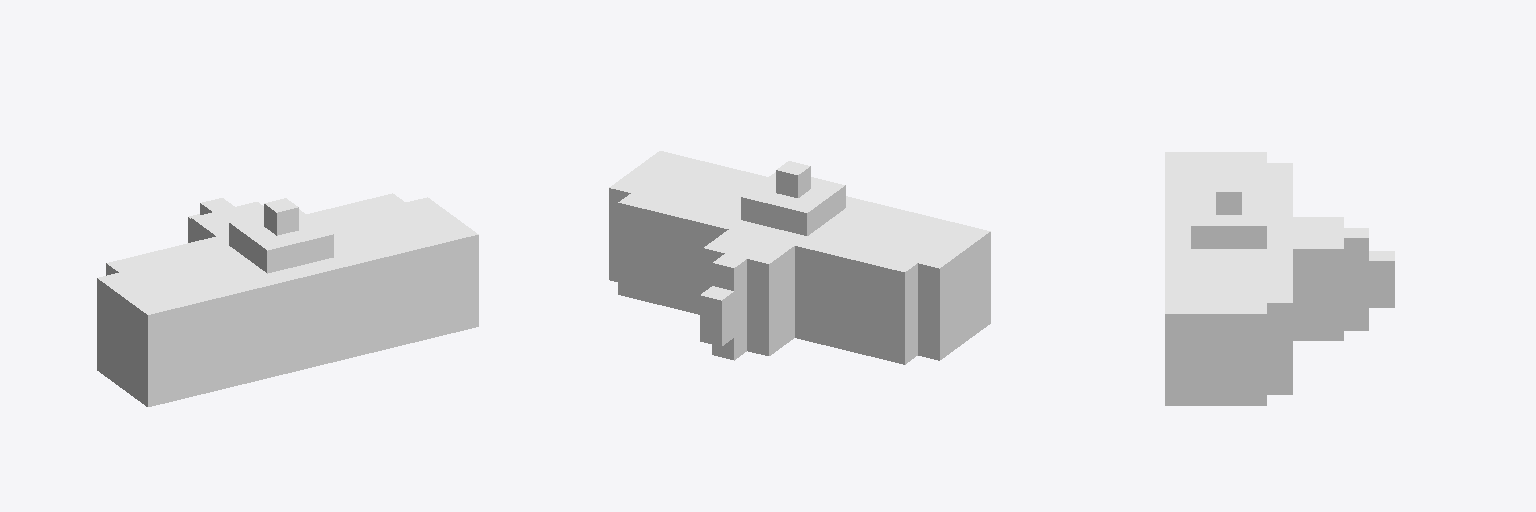
File: jugador.obj
The picture shows the model from 3 angles: view 1: azimuth 30°, elevation 25°; view 2: azimuth 150°, elevation 25°; view 3: azimuth 270°, elevation 25°; orthographic projection.
Visible parts, largest first — view 1: object 1; view 2: object 1; view 3: object 1.
Part boxes in pixels (x1,y1,x2,y2): object 1: (97,193,478,406); object 1: (609,151,990,364); object 1: (1165,152,1394,405).
Size of the model in its own units: 1.5 by 0.6 by 0.9.